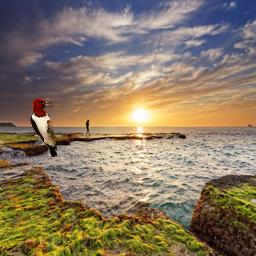Woodpecker: (30, 98, 57, 157)
